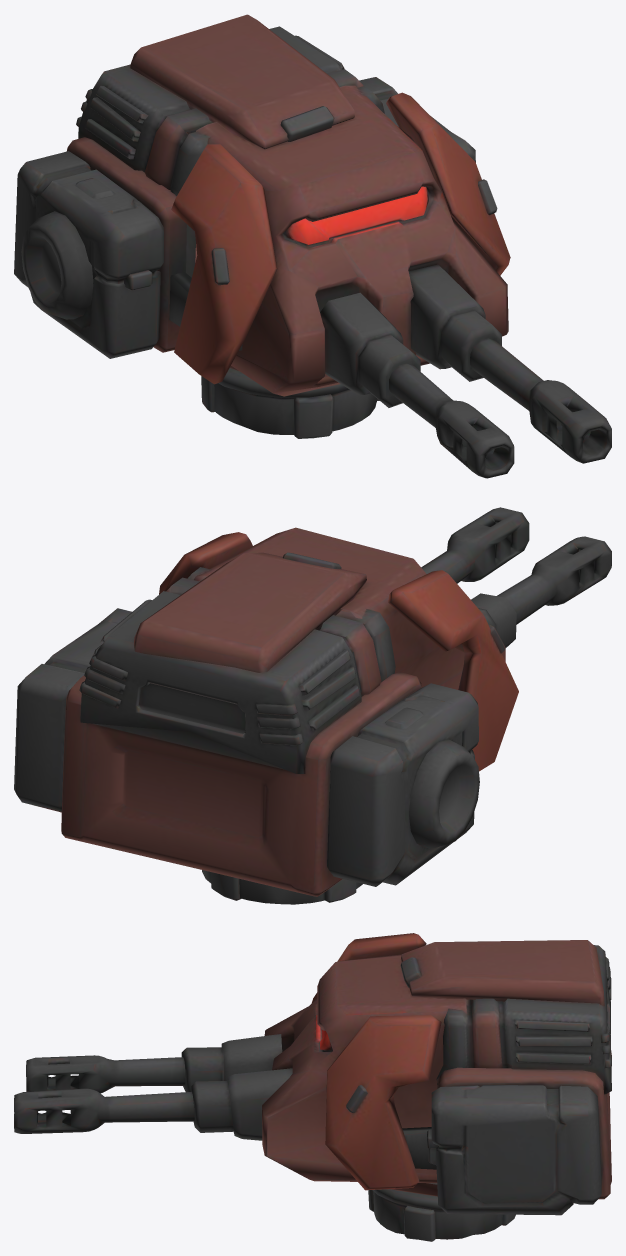
Rendered from turret-head.glb.
3 renders of one model, top to bottom at view 1: azimuth 30°, elevation 25°; view 2: azimuth 150°, elevation 25°; view 3: azimuth 270°, elevation 25°, orthographic. The views are drawn at different scales.
Visible parts, largest first — view 1: tripo_node_b03d45a6-c305-42d3-a073-50481c504645; view 2: tripo_node_b03d45a6-c305-42d3-a073-50481c504645; view 3: tripo_node_b03d45a6-c305-42d3-a073-50481c504645.
Boxes of the visible parts, box(x1,y1,x2,y2) form: tripo_node_b03d45a6-c305-42d3-a073-50481c504645: box(14, 14, 611, 478); tripo_node_b03d45a6-c305-42d3-a073-50481c504645: box(14, 507, 611, 904); tripo_node_b03d45a6-c305-42d3-a073-50481c504645: box(14, 933, 611, 1241).
Bounding box in the file's own units: 0.6157 × 0.4683 × 0.9995.
Materials: 1 (1 with a texture image).
